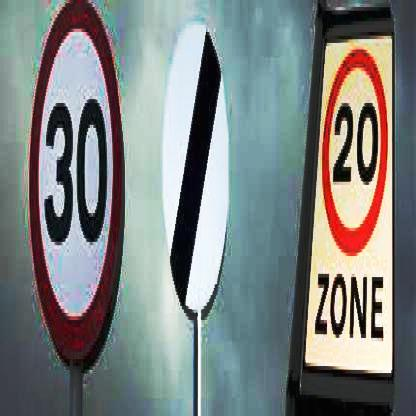Speed Limit -30-: (32, 0, 122, 362)
